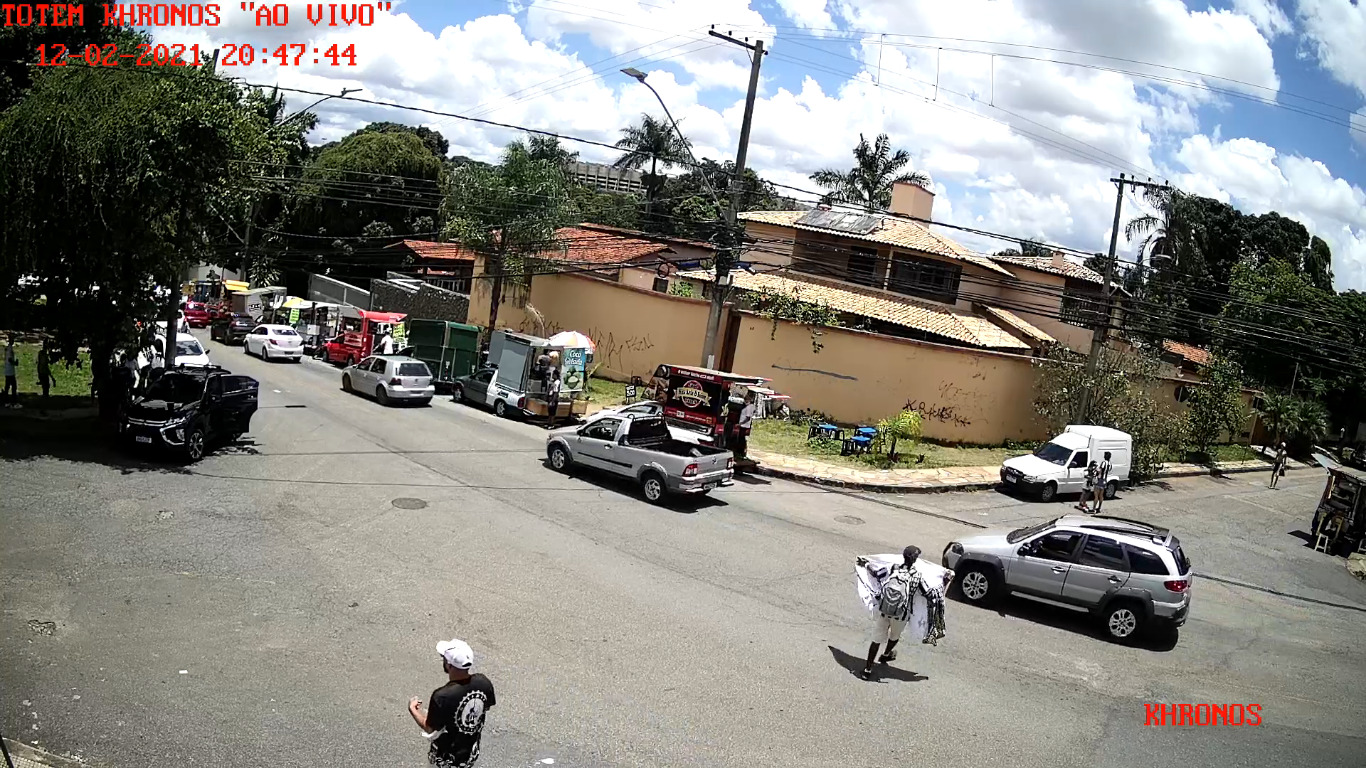car: (940, 512, 1194, 642), (545, 408, 736, 506)
